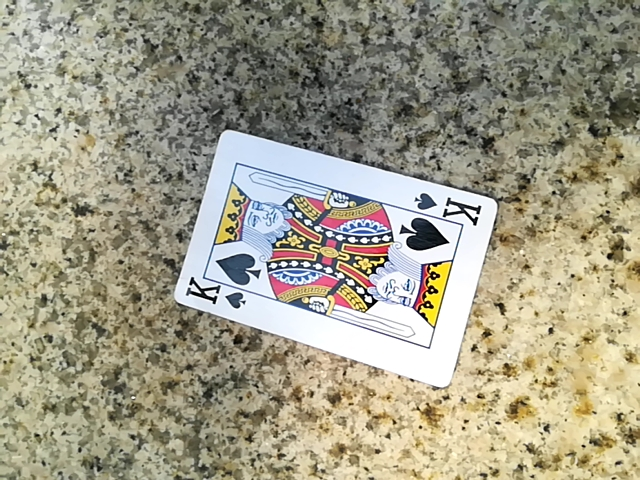ht k: (174, 173, 494, 398)
